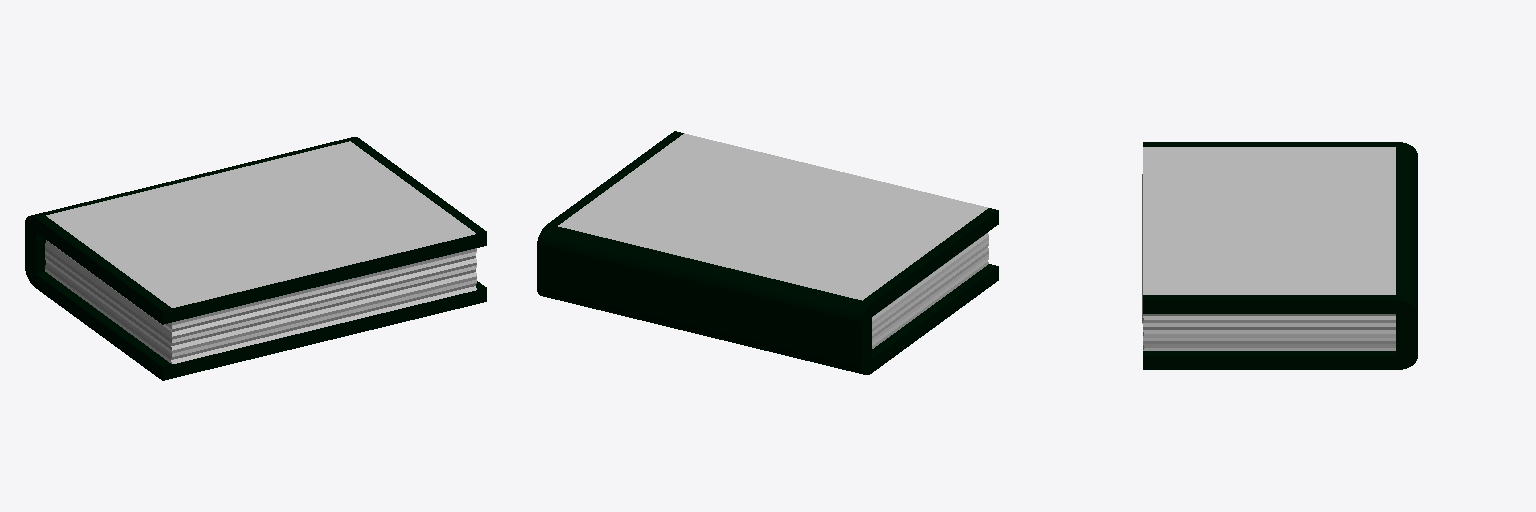
Rendered from book81.obj.
3 renders of one model, left to right at view 1: azimuth 30°, elevation 25°; view 2: azimuth 150°, elevation 25°; view 3: azimuth 270°, elevation 25°, orthographic.
Visible parts, largest first — view 1: Cube_3, Cube_1, Cube_2; view 2: Cube_3, Cube_1, Cube_2; view 3: Cube_3, Cube_1, Cube_2.
Part boxes in pixels (x1,y1,x2,y2): Cube_3: (46, 141, 475, 307); Cube_1: (25, 137, 486, 380); Cube_2: (45, 240, 476, 363); Cube_3: (558, 133, 987, 300); Cube_1: (537, 131, 998, 374); Cube_2: (872, 233, 988, 348); Cube_3: (1143, 147, 1395, 294); Cube_1: (1143, 142, 1417, 369); Cube_2: (1142, 174, 1395, 350).
Bounding box in the file's own units: 186 × 38.44 × 137.